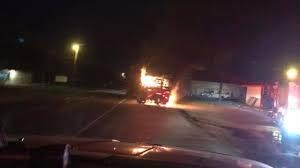fire: (135, 64, 183, 108)
